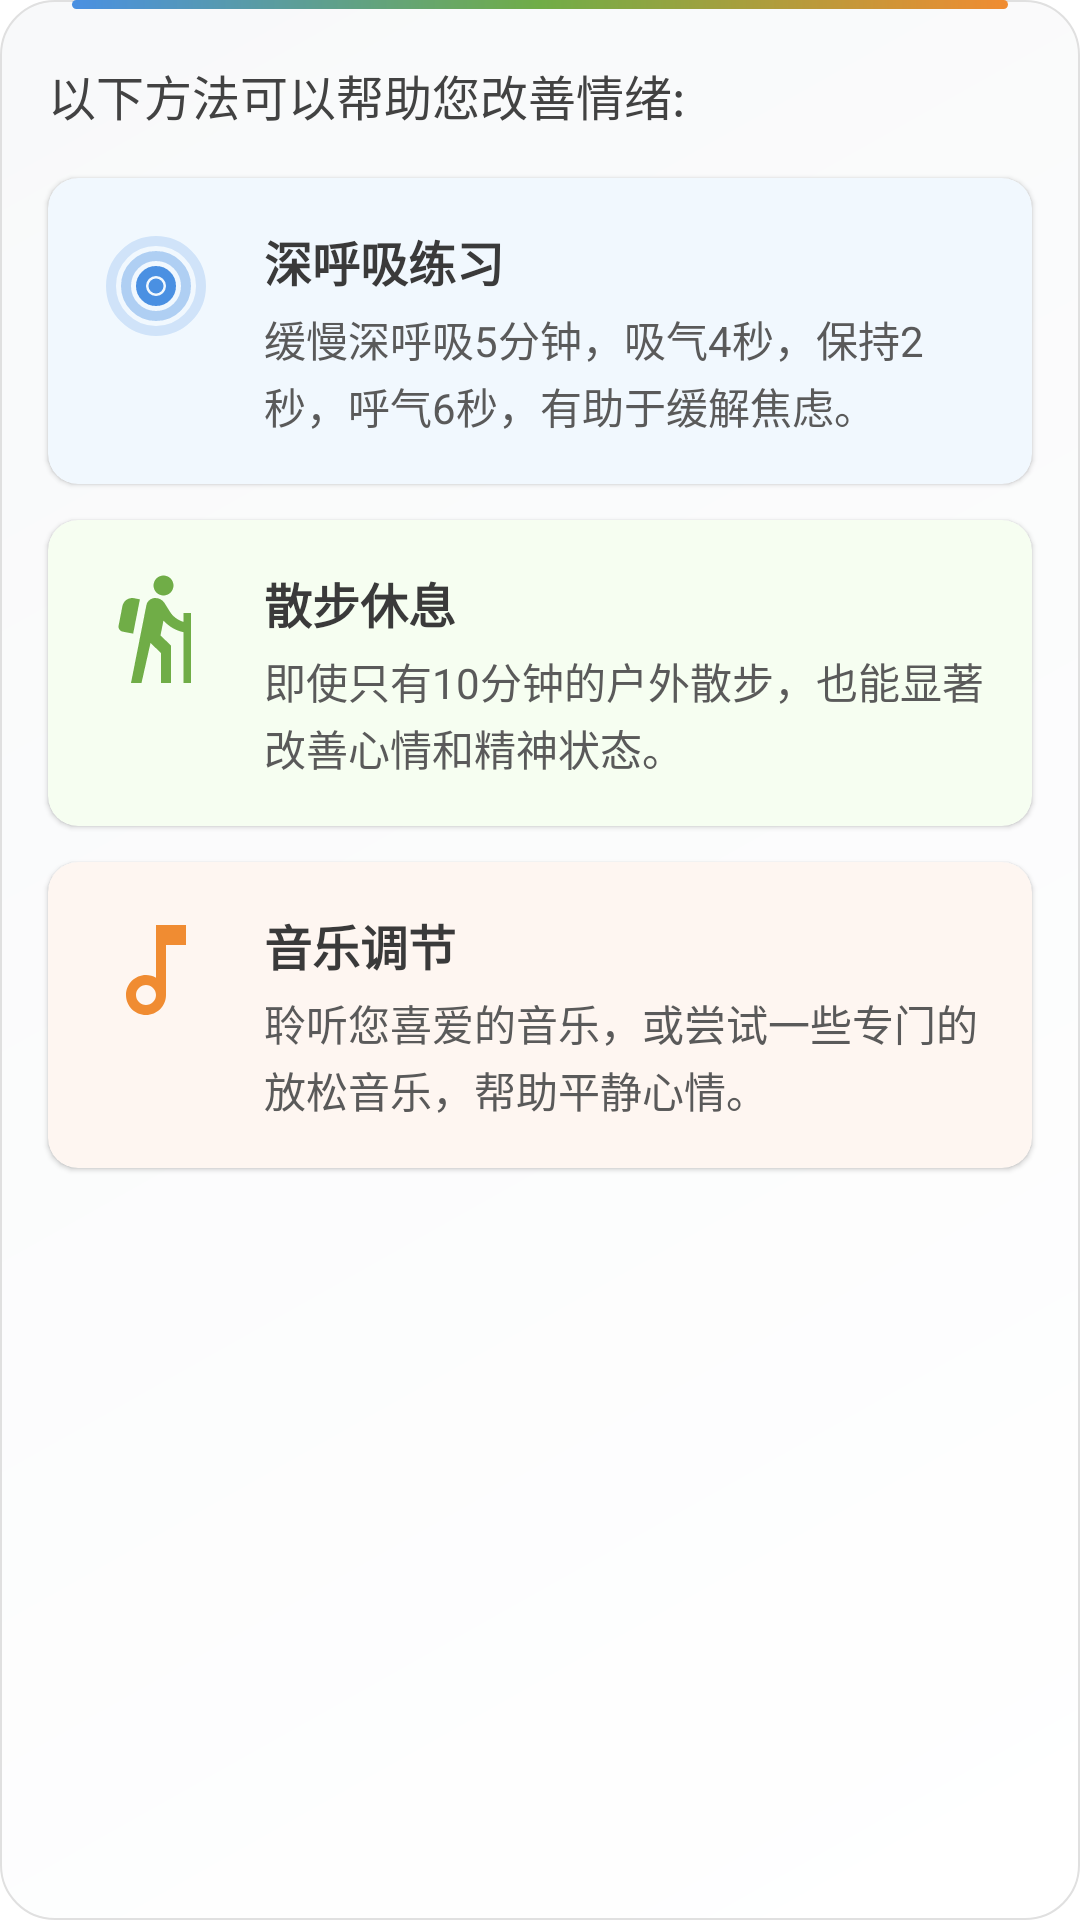

Named icons in this screenshot (1080px x 1920px) and their centers, (x,y):
breathing: (156,286)
music: (156,970)
walk: (154,629)
